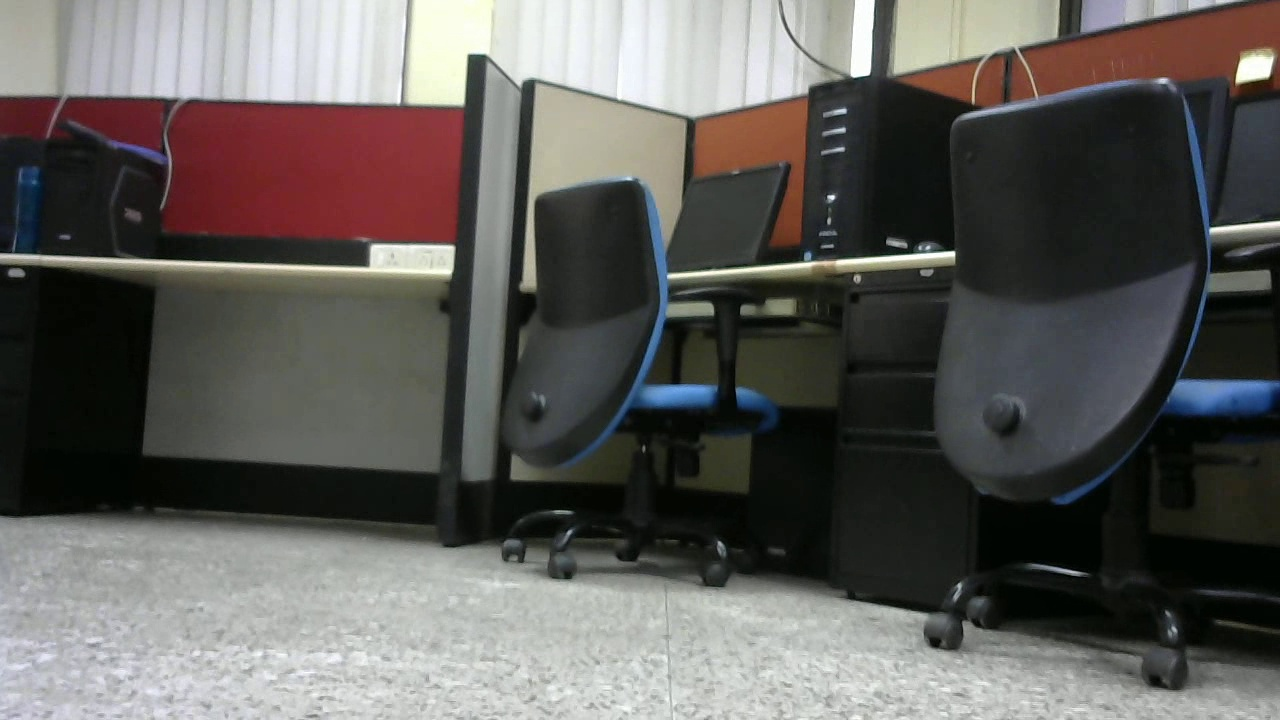chair: (921, 79, 1280, 692), (496, 171, 782, 591)
